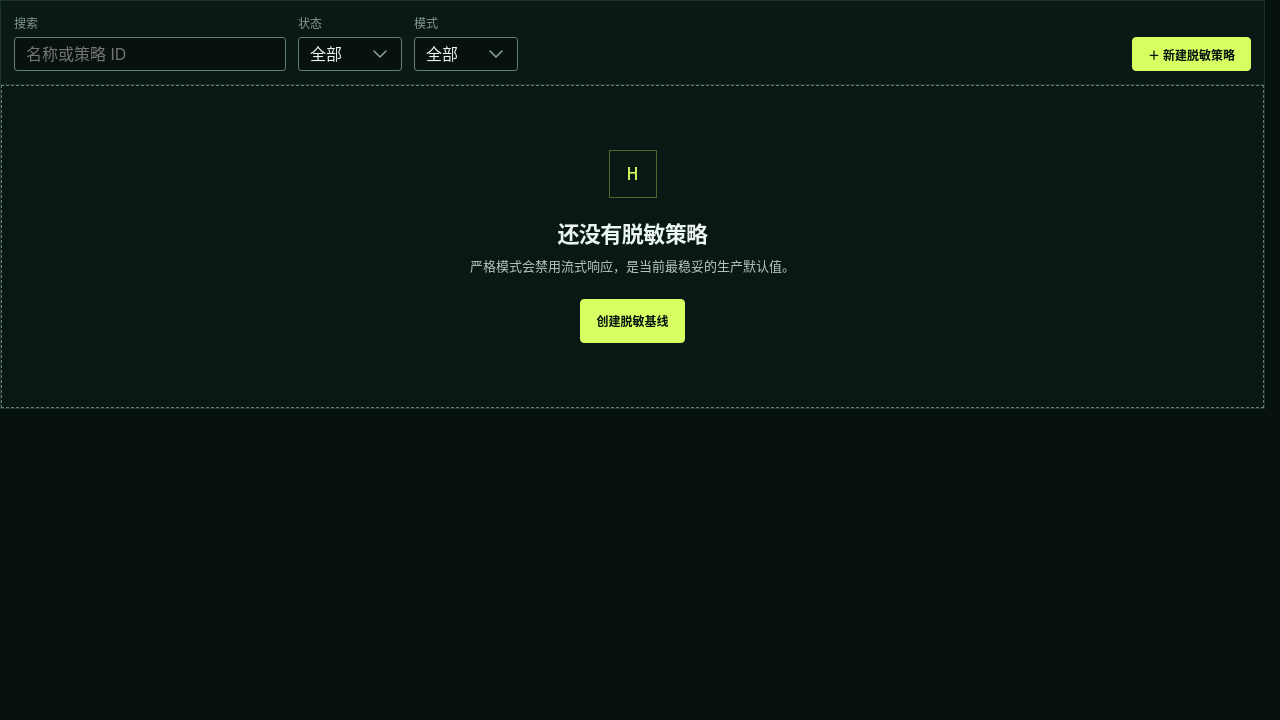
Test: RedactionPoliciesSection form safety › asks before discarding a changed policy draft
Click the button "＋ 新建脱敏策略".
click(1192, 54)  # box [1132, 37, 1251, 71]
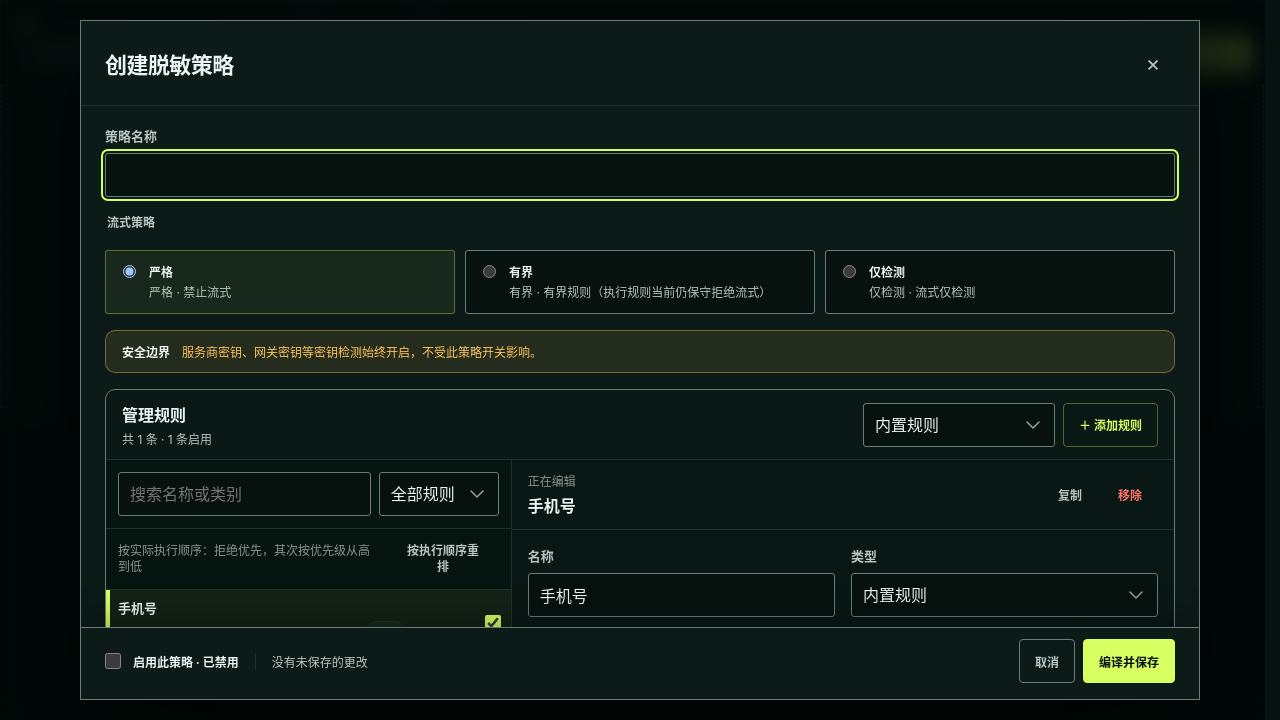
Type "Changed" into the field labelled "策略名称".
click(640, 175); type("Changed")  # box [105, 153, 1175, 197]
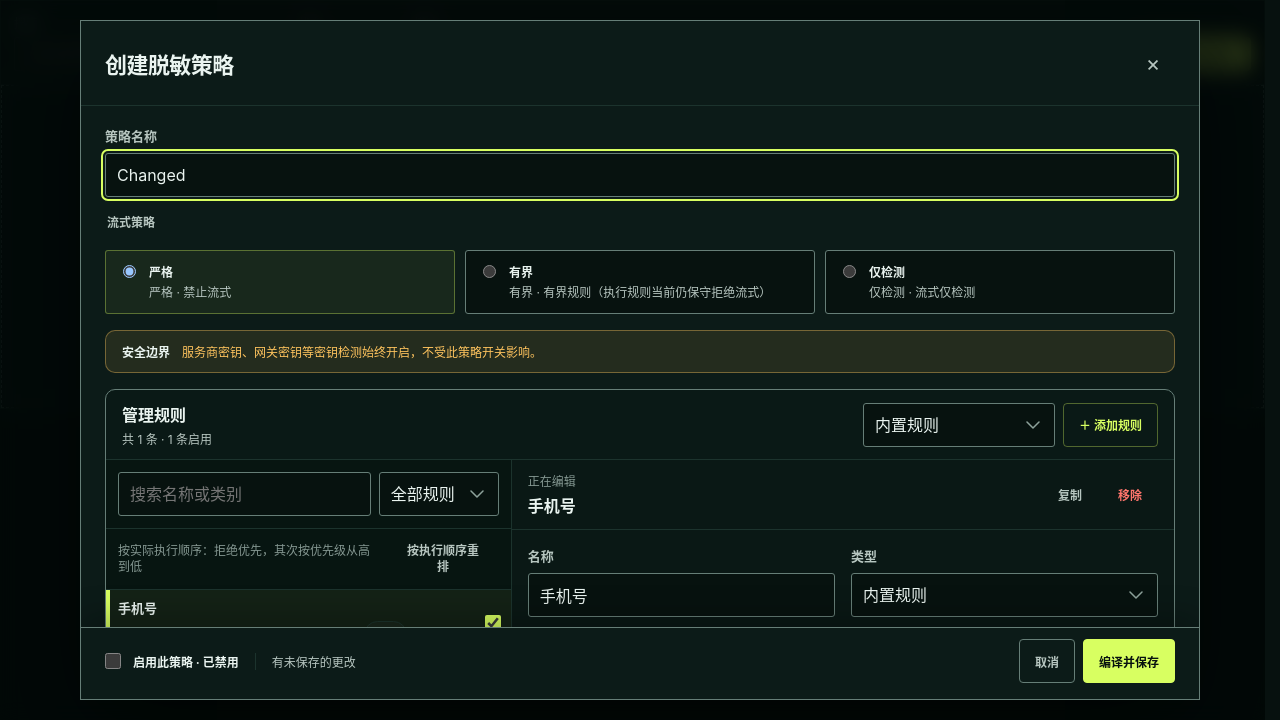
Click the button named "关闭".
click(1153, 63)  # box [1131, 41, 1175, 85]
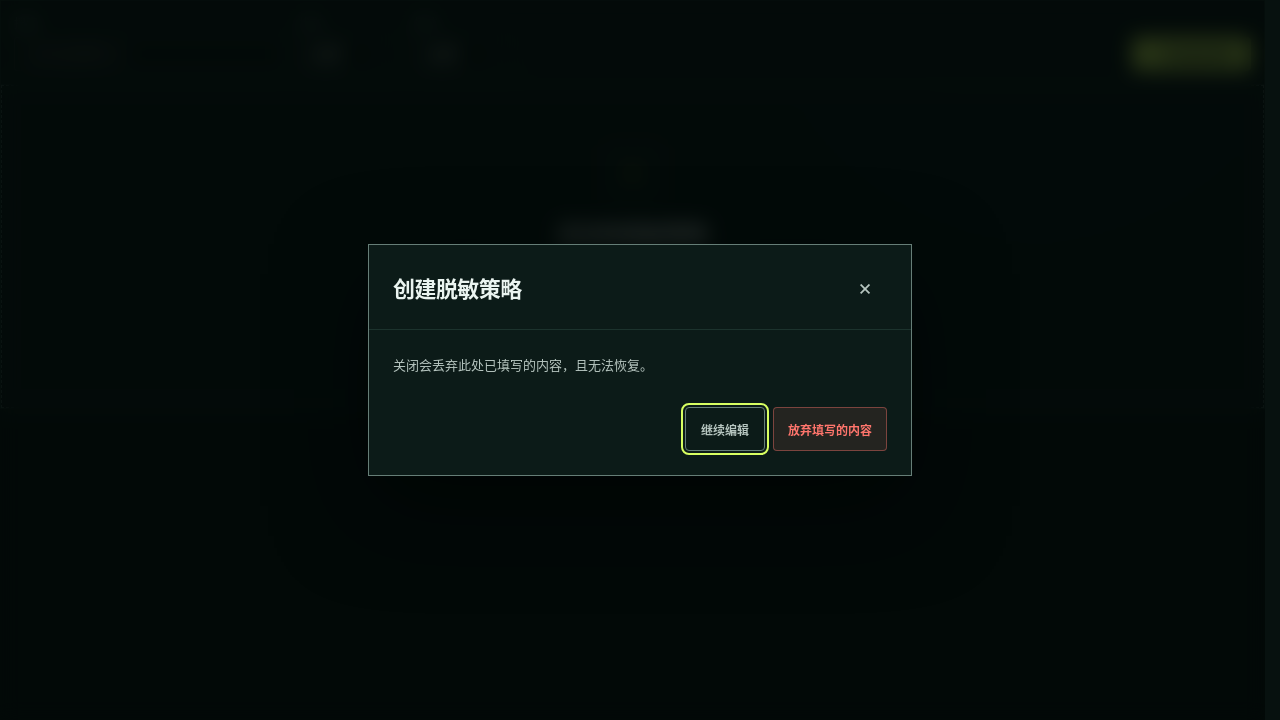
Expected: the message shows "关闭会丢弃此处已填写的内容", [393, 357, 653, 373]
